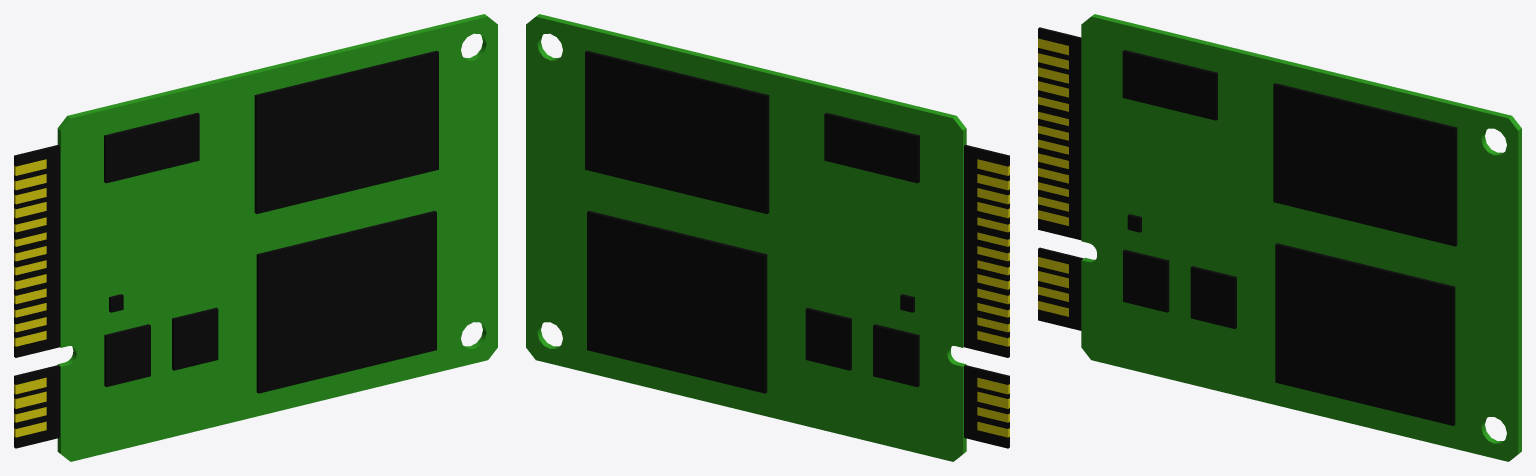
The model's file is SSD.glb.
3 renders of one model, left to right at view 1: azimuth 30°, elevation 25°; view 2: azimuth 150°, elevation 25°; view 3: azimuth 330°, elevation 25°, orthographic.
Parts seen in each view (by area): view 1: SSD; view 2: SSD; view 3: SSD.
Boxes of the visible parts, box(x1,y1,x2,y2) form: SSD: box(14, 14, 497, 461); SSD: box(526, 14, 1009, 461); SSD: box(1038, 14, 1521, 461).
Size of the model in its own units: 3.06 by 2.09 by 0.0823.
